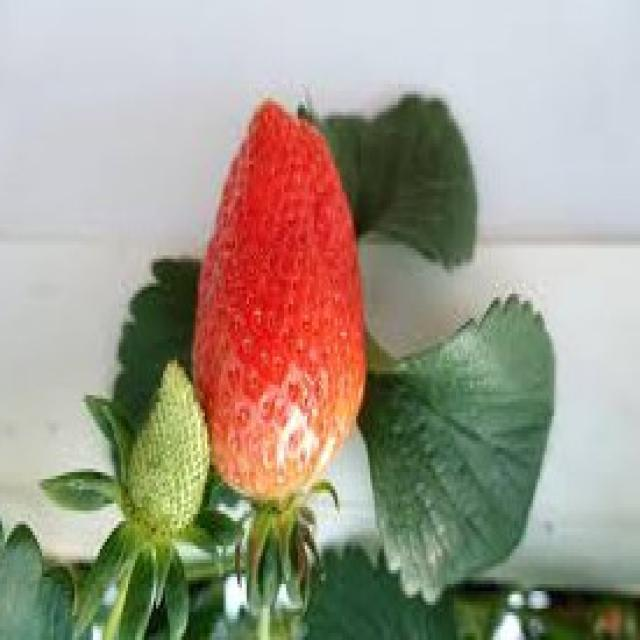strawberry: (192, 100, 366, 506), (126, 358, 212, 538)
